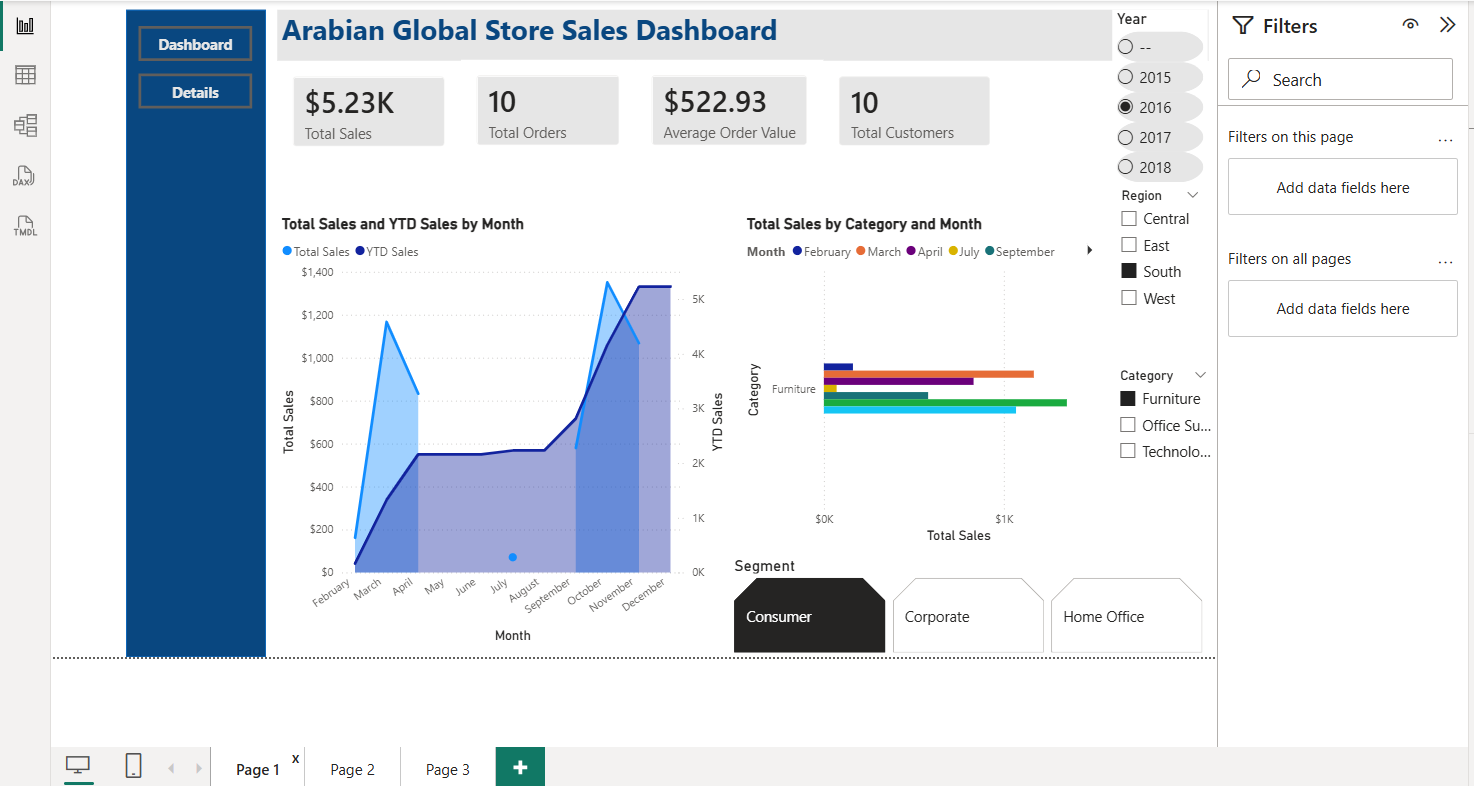

What the dashboard file says about the page in this screenshot:
{"tool":"powerbi","page":{"name":"Page 1","canvas":[1280,720],"ordinal":0},"visuals":[{"type":"shape","box":[82.3,9.6,153.7,710.8],"z":0},{"type":"textbox","title":"Arabian Global Store            Sales Dashboard","box":[248.3,9.6,1022.3,56.3],"z":0,"group":"g1"},{"type":"actionButton","box":[96.1,27.4,124.9,38.4],"z":1000},{"type":"cardVisual","fields":{"Data":["Fact_Orders.Total Sales"]},"box":[248.2,66,201.8,111.3],"z":1000,"group":"g1"},{"type":"cardVisual","fields":{"Data":["Fact_Orders.Total Orders"]},"box":[450,64.8,192,111.3],"z":2000,"group":"g1"},{"type":"actionButton","box":[96.1,79.6,124.9,38.4],"z":2000},{"type":"group","id":"g1","title":"Group 1","box":[248.2,9.6,1032.1,710.6],"z":3000},{"type":"cardVisual","fields":{"Data":["Fact_Orders.Average Order Value"]},"box":[642,64.8,205.4,111.3],"z":3000,"group":"g1"},{"type":"areaChart","fields":{"Category":["Dim_Date.Month"],"Y":["Fact_Orders.Total Sales"],"Y2":["Fact_Orders.YTD Sales"]},"box":[248.2,234.8,496.5,474.5],"z":4000,"group":"g1"},{"type":"actionButton","box":[0,0,100,40],"z":5000},{"type":"clusteredBarChart","fields":{"Y":["Fact_Orders.Total Sales"],"Category":["Dim_Products.Category"],"Series":["Dim_Date.Month"]},"box":[759.3,234.8,401.1,365.6],"z":5000,"group":"g1"},{"type":"cardVisual","fields":{"Data":["Dim_Customers.Total Customers"]},"box":[847.4,66,200.5,110.1],"z":6000,"group":"g1"},{"type":"listSlicer","fields":{"Values":["Dim_Date.Year"]},"box":[1165.3,9.8,105.2,297.1],"z":7000,"group":"g1"},{"type":"slicer","fields":{"Values":["Fact_Orders.Region"]},"box":[1162.9,200.5,110.1,181],"z":8000,"group":"g1"},{"type":"slicer","fields":{"Values":["Dim_Products.Category"]},"box":[1160.4,397.4,119.8,220.1],"z":9000,"group":"g1"},{"type":"advancedSlicerVisual","fields":{"Values":["Dim_Customers.Segment"]},"box":[744.7,609,525.8,111.3],"z":10000,"group":"g1"}]}

Visuals, with their boxes on the page's 1280x720 design canvas (x1, y1, x2, y2). These are canvas units, not pixel positions in the 1474x786 screenshot, which may show the page scaled, cropped or inside an application window:
shape: [left=82, top=10, right=236, bottom=720]
"Arabian Global Store            Sales Dashboard" textbox: [left=248, top=10, right=1271, bottom=66]
actionButton: [left=96, top=27, right=221, bottom=66]
cardVisual - Fact_Orders.Total Sales: [left=248, top=66, right=450, bottom=177]
cardVisual - Fact_Orders.Total Orders: [left=450, top=65, right=642, bottom=176]
actionButton: [left=96, top=80, right=221, bottom=118]
"Group 1" group: [left=248, top=10, right=1280, bottom=720]
cardVisual - Fact_Orders.Average Order Value: [left=642, top=65, right=847, bottom=176]
areaChart - Dim_Date.Month x Fact_Orders.Total Sales: [left=248, top=235, right=745, bottom=709]
actionButton: [left=0, top=0, right=100, bottom=40]
clusteredBarChart - Fact_Orders.Total Sales x Dim_Products.Category: [left=759, top=235, right=1160, bottom=600]
cardVisual - Dim_Customers.Total Customers: [left=847, top=66, right=1048, bottom=176]
listSlicer - Dim_Date.Year: [left=1165, top=10, right=1270, bottom=307]
slicer - Fact_Orders.Region: [left=1163, top=200, right=1273, bottom=382]
slicer - Dim_Products.Category: [left=1160, top=397, right=1280, bottom=618]
advancedSlicerVisual - Dim_Customers.Segment: [left=745, top=609, right=1270, bottom=720]
